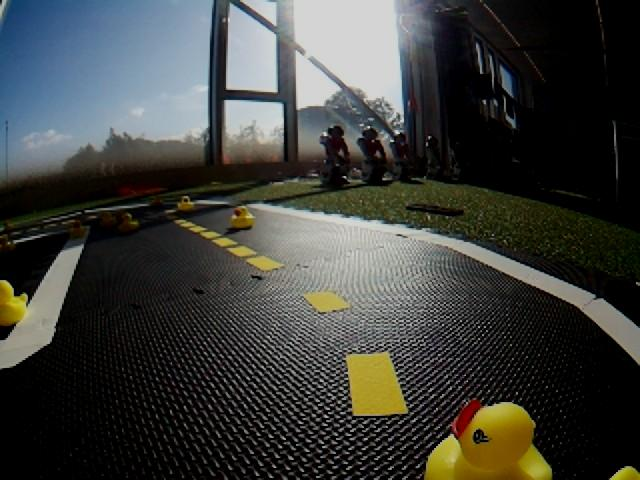Duckies: (424, 405, 550, 480), (0, 277, 27, 332), (229, 206, 255, 228), (608, 467, 640, 480), (120, 214, 140, 232), (68, 221, 87, 239), (178, 196, 195, 211), (99, 213, 116, 227), (4, 234, 16, 252)
